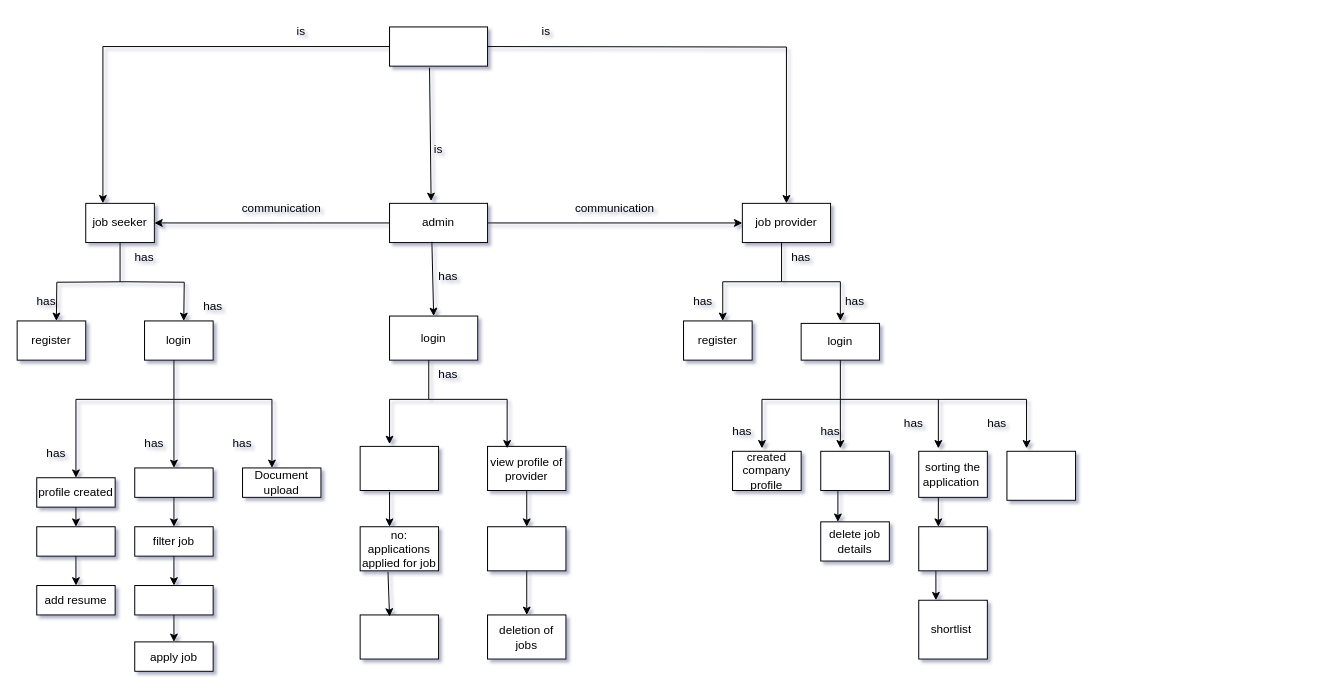
Image size: 1334x694. Some labels were removed from this diagram. The box of each missing label's shape, as (x1, y1, x2, y2) in pixels:
add job details: (820, 450, 889, 490)
add member to company: (1006, 450, 1076, 500)
add skill: (36, 526, 115, 556)
deletion of company: (359, 614, 439, 659)
Interview schedule: (918, 526, 987, 571)
number of interview schedule: (487, 526, 566, 571)
save job: (134, 585, 213, 615)
search job: (134, 467, 213, 497)
system user: (389, 26, 488, 66)
view profile of seeker: (359, 445, 439, 490)
